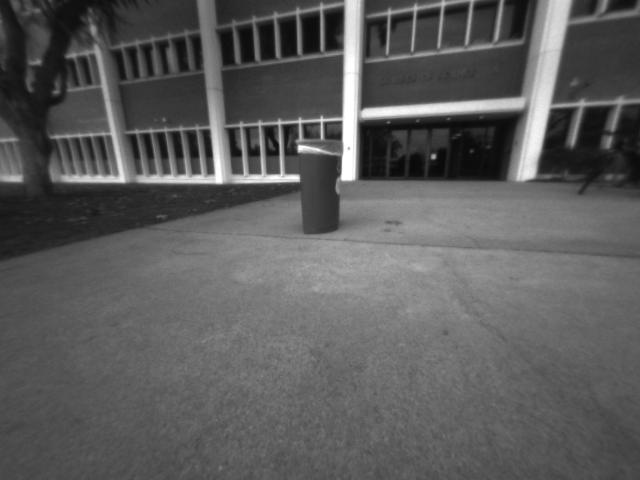trashcan_open: (291, 135, 351, 240)
